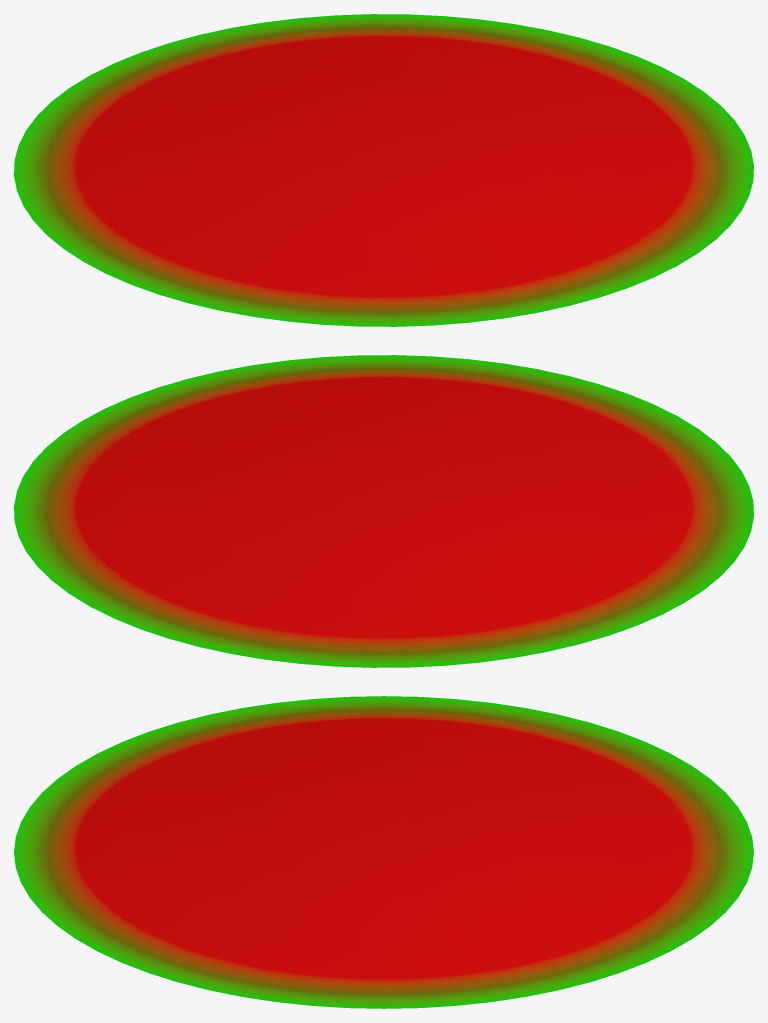
File: SM_BubblePool_01.FBX
3 renders of one model, top to bottom at view 1: azimuth 30°, elevation 25°; view 2: azimuth 150°, elevation 25°; view 3: azimuth 270°, elevation 25°, orthographic.
Visible parts, largest first — view 1: SM_BubblePool_01; view 2: SM_BubblePool_01; view 3: SM_BubblePool_01.
Part boxes in pixels (x1,y1,x2,y2): SM_BubblePool_01: (14,14,753,326); SM_BubblePool_01: (14,355,753,667); SM_BubblePool_01: (14,696,753,1008).
Bounding box in the file's own units: 131 × 131 × 4.53.
